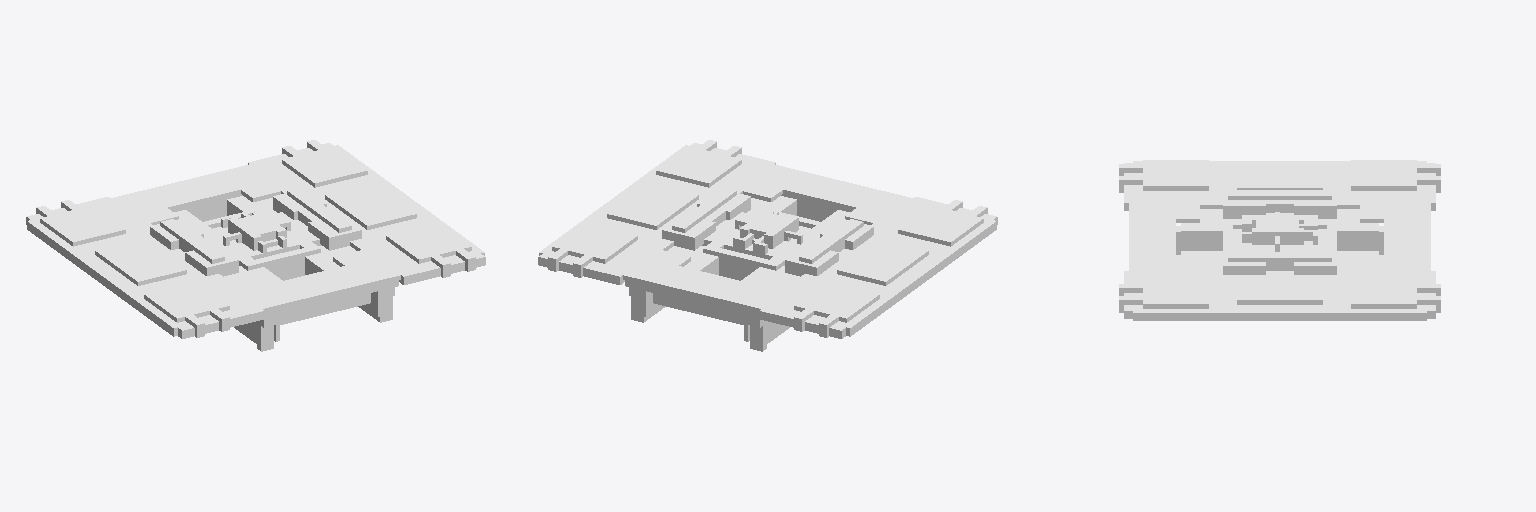
The model's file is boss_final2.obj.
3 renders of one model, left to right at view 1: azimuth 30°, elevation 25°; view 2: azimuth 150°, elevation 25°; view 3: azimuth 270°, elevation 25°, orthographic.
Parts seen in each view (by area): view 1: object 1; view 2: object 1; view 3: object 1.
Part boxes in pixels (bbox=[...]): object 1: bbox=[26, 140, 485, 351]; object 1: bbox=[538, 140, 997, 351]; object 1: bbox=[1119, 160, 1440, 320].
Size of the model in its own units: 7.6 by 1.5 by 6.8.